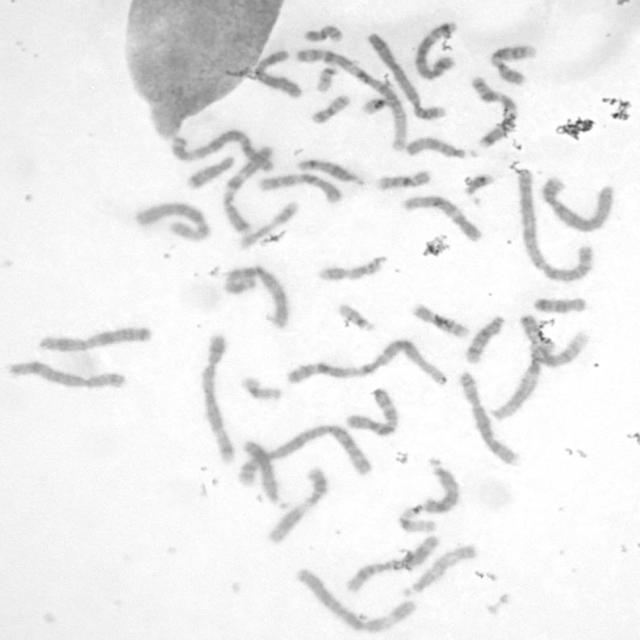A1: (292, 44, 410, 152), (280, 335, 450, 388)
A2: (514, 167, 597, 283), (234, 422, 372, 488)
A3: (214, 262, 294, 330), (167, 127, 275, 172)
B4: (364, 29, 447, 117), (538, 173, 616, 234)
B5: (198, 332, 239, 466), (410, 18, 458, 81)
C10: (255, 170, 342, 205), (342, 385, 400, 437)
C11: (341, 532, 442, 595), (263, 462, 331, 545)
C12: (487, 338, 557, 422), (400, 192, 484, 243)
C6: (290, 564, 420, 634), (134, 199, 210, 244)
C7: (219, 142, 275, 238), (467, 74, 521, 150)
C8: (455, 368, 522, 467), (3, 358, 128, 391)
C9: (518, 312, 586, 365), (487, 40, 540, 86)
D13: (240, 437, 285, 507), (421, 455, 462, 516)
D14: (462, 312, 506, 364), (295, 156, 367, 187)
D15: (399, 542, 478, 598), (401, 135, 480, 160)
E16: (408, 302, 471, 340), (374, 165, 434, 191)
E17: (236, 198, 300, 250), (314, 253, 390, 282)
E18: (182, 153, 236, 192), (531, 293, 588, 315)
F19: (394, 501, 438, 534), (237, 373, 284, 402)
F20: (309, 90, 353, 124), (300, 22, 345, 43)
G21: (461, 171, 495, 196), (358, 93, 389, 116)
G22: (335, 301, 376, 333), (312, 61, 339, 94)
X: (36, 321, 154, 354), (251, 46, 303, 99)
